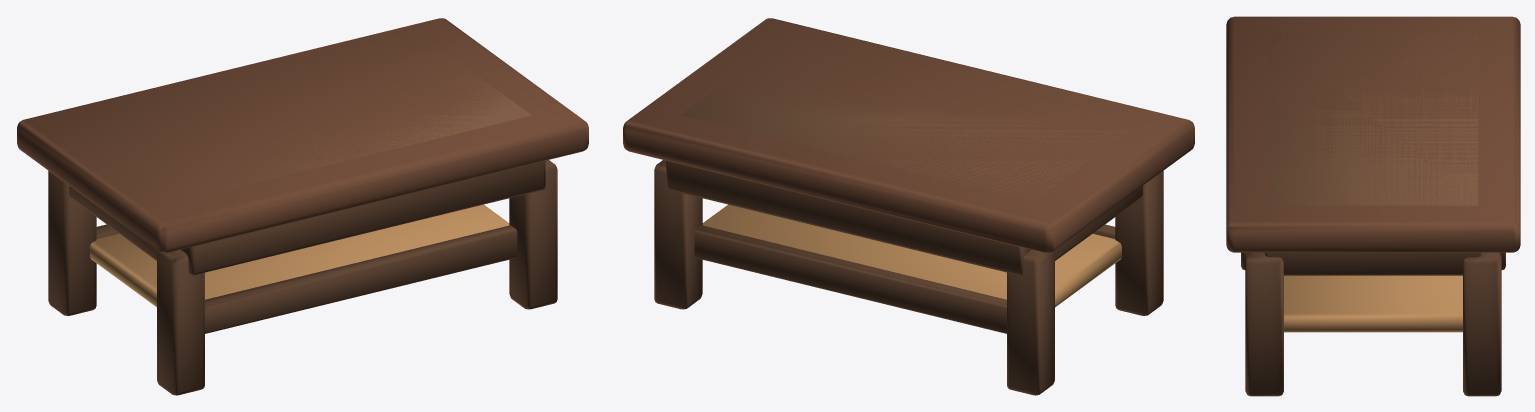
Rendered from asset_069_lounge_coffee_table_sheet07.glb.
3 views of the same model, side by side, from view 1: azimuth 30°, elevation 25°; view 2: azimuth 150°, elevation 25°; view 3: azimuth 270°, elevation 25° (orthographic).
Parts seen in each view (by area): view 1: MESH_CoffeeTableTop, MESH_CoffeeTableLegSet, MESH_CoffeeTableApronFrame, MESH_CoffeeTableShelfTrim, MESH_CoffeeTableLowerShelf, MESH_CoffeeTableInset; view 2: MESH_CoffeeTableTop, MESH_CoffeeTableInset, MESH_CoffeeTableLegSet, MESH_CoffeeTableApronFrame, MESH_CoffeeTableShelfTrim, MESH_CoffeeTableLowerShelf; view 3: MESH_CoffeeTableTop, MESH_CoffeeTableInset, MESH_CoffeeTableLegSet, MESH_CoffeeTableLowerShelf, MESH_CoffeeTableApronFrame.
Part boxes in pixels (bbox=[...]): MESH_CoffeeTableTop: bbox=[17, 18, 588, 253]; MESH_CoffeeTableLegSet: bbox=[48, 160, 557, 395]; MESH_CoffeeTableApronFrame: bbox=[69, 160, 545, 275]; MESH_CoffeeTableShelfTrim: bbox=[96, 224, 517, 333]; MESH_CoffeeTableLowerShelf: bbox=[90, 204, 509, 307]; MESH_CoffeeTableInset: bbox=[83, 39, 531, 200]; MESH_CoffeeTableTop: bbox=[623, 18, 1194, 253]; MESH_CoffeeTableInset: bbox=[680, 40, 1129, 200]; MESH_CoffeeTableLegSet: bbox=[654, 160, 1163, 395]; MESH_CoffeeTableApronFrame: bbox=[666, 160, 1142, 275]; MESH_CoffeeTableShelfTrim: bbox=[694, 224, 1115, 333]; MESH_CoffeeTableLowerShelf: bbox=[702, 204, 1121, 307]; MESH_CoffeeTableTop: bbox=[1226, 16, 1520, 252]; MESH_CoffeeTableInset: bbox=[1268, 33, 1478, 205]; MESH_CoffeeTableLegSet: bbox=[1245, 252, 1501, 396]; MESH_CoffeeTableLowerShelf: bbox=[1284, 275, 1462, 332]; MESH_CoffeeTableApronFrame: bbox=[1241, 252, 1505, 275].
Size of the model in its own units: 1.1 by 0.45 by 0.65.
